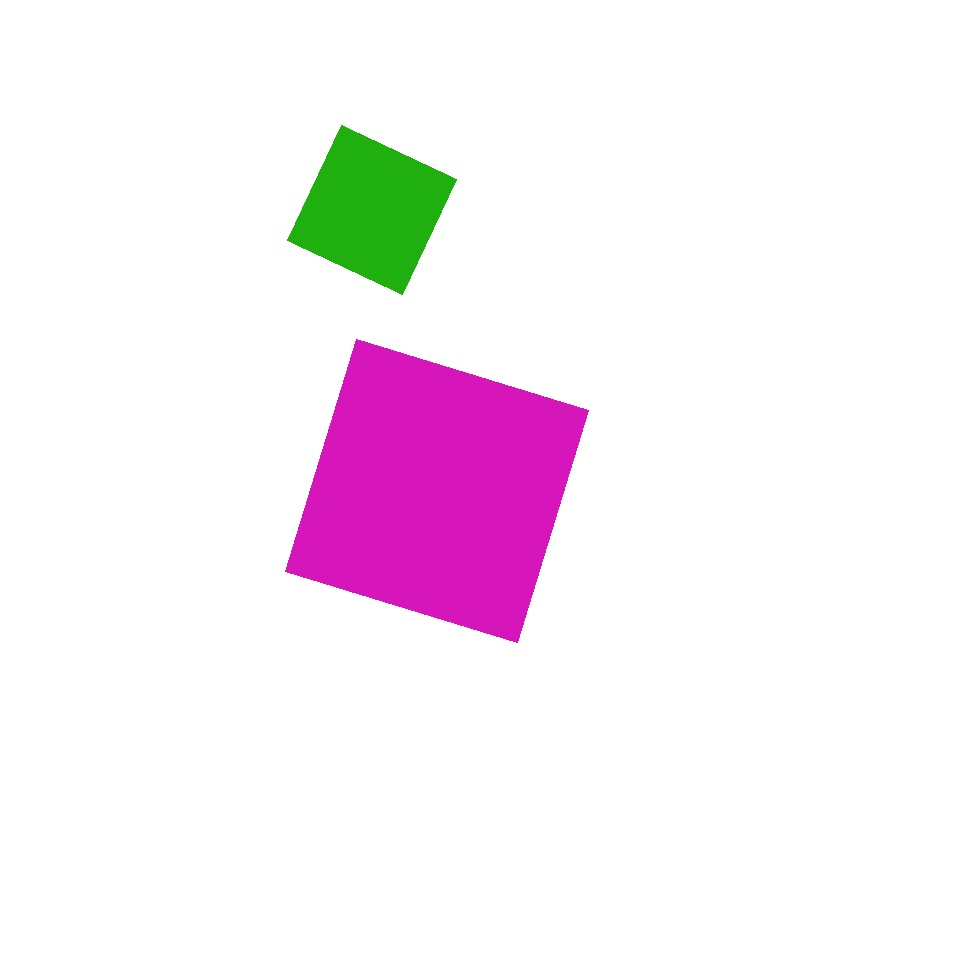circle: (23, 461, 263, 675)
square: (127, 352, 434, 660), (286, 340, 588, 642), (288, 126, 456, 294)
triangle: (541, 568, 752, 778)
